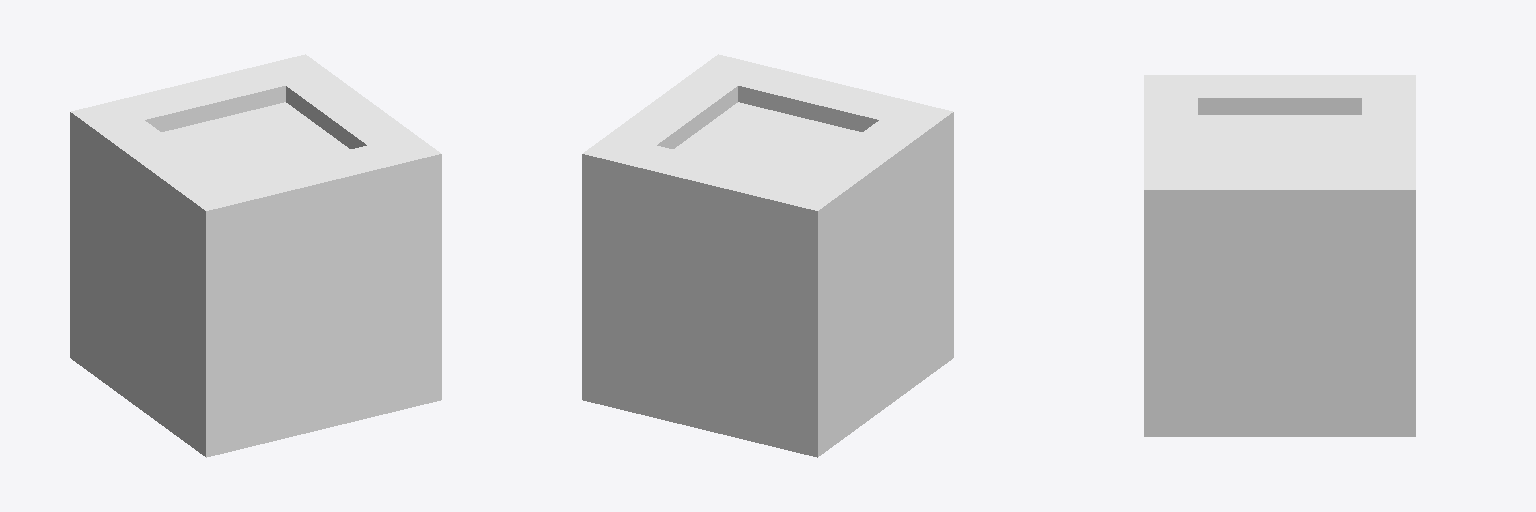
Rendered from Atlantis_GroundPortal.obj.
3 views of the same model, side by side, from view 1: azimuth 30°, elevation 25°; view 2: azimuth 150°, elevation 25°; view 3: azimuth 270°, elevation 25° (orthographic).
Bounding box in the file's own units: 15 × 15 × 15.